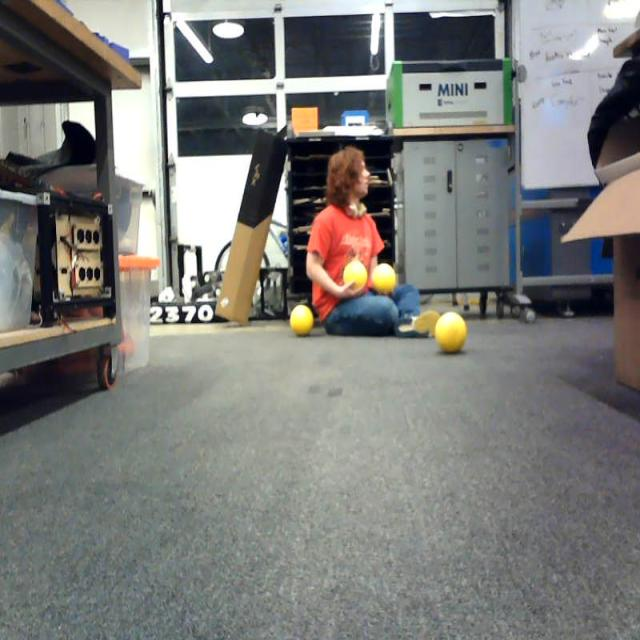Fuel: (436, 312, 466, 353), (343, 261, 367, 291), (291, 304, 313, 336), (372, 264, 396, 293)
